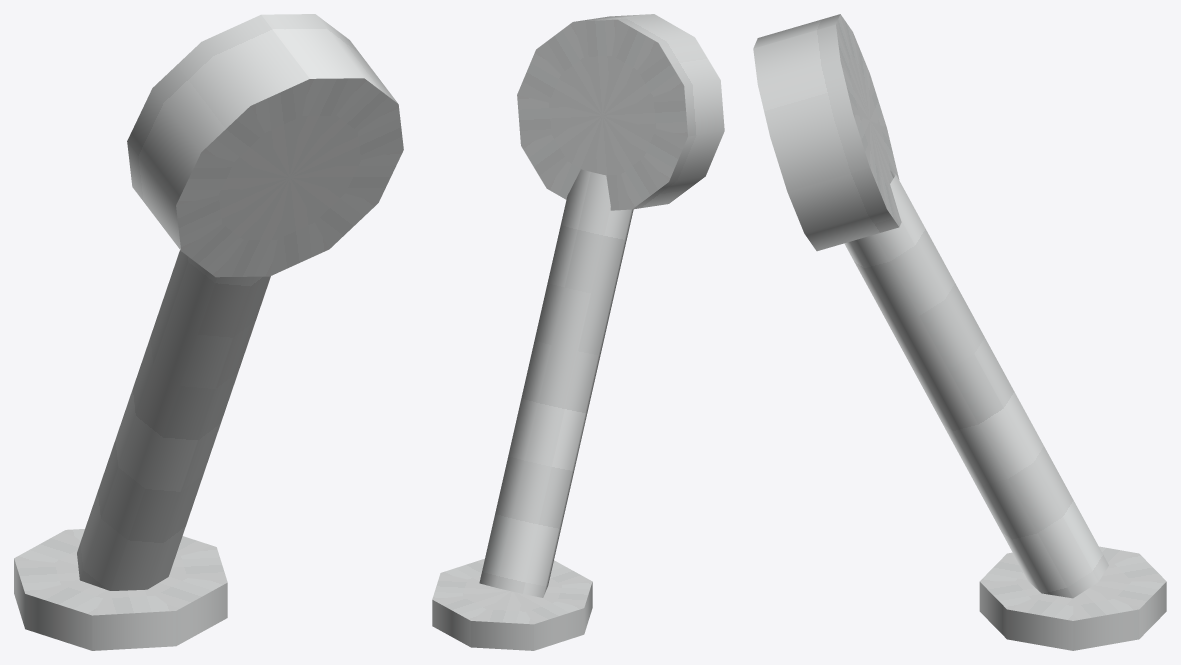
The model's file is nycsignalarm_stub_39.obj.
3 renders of one model, left to right at view 1: azimuth 30°, elevation 25°; view 2: azimuth 150°, elevation 25°; view 3: azimuth 270°, elevation 25°, orthographic. The views are drawn at different scales.
Visible parts, largest first — view 1: nycsignalarm_stub_39; view 2: nycsignalarm_stub_39; view 3: nycsignalarm_stub_39.
Part boxes in pixels (x1,y1,x2,y2): nycsignalarm_stub_39: (14,14,403,650); nycsignalarm_stub_39: (432,14,724,650); nycsignalarm_stub_39: (753,14,1166,650).
Bounding box in the file's own units: 0.4164 × 1.21 × 0.7735.
